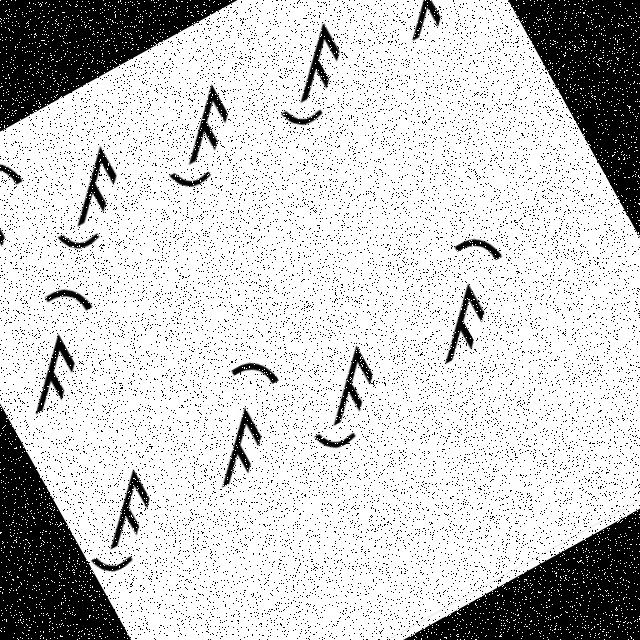kaw: (240, 12, 374, 146), (51, 449, 180, 587), (27, 135, 157, 265), (130, 76, 260, 200), (282, 330, 406, 459)
kay: (380, 208, 544, 376), (160, 337, 322, 504), (0, 268, 137, 429), (0, 142, 60, 291), (357, 0, 507, 52)
